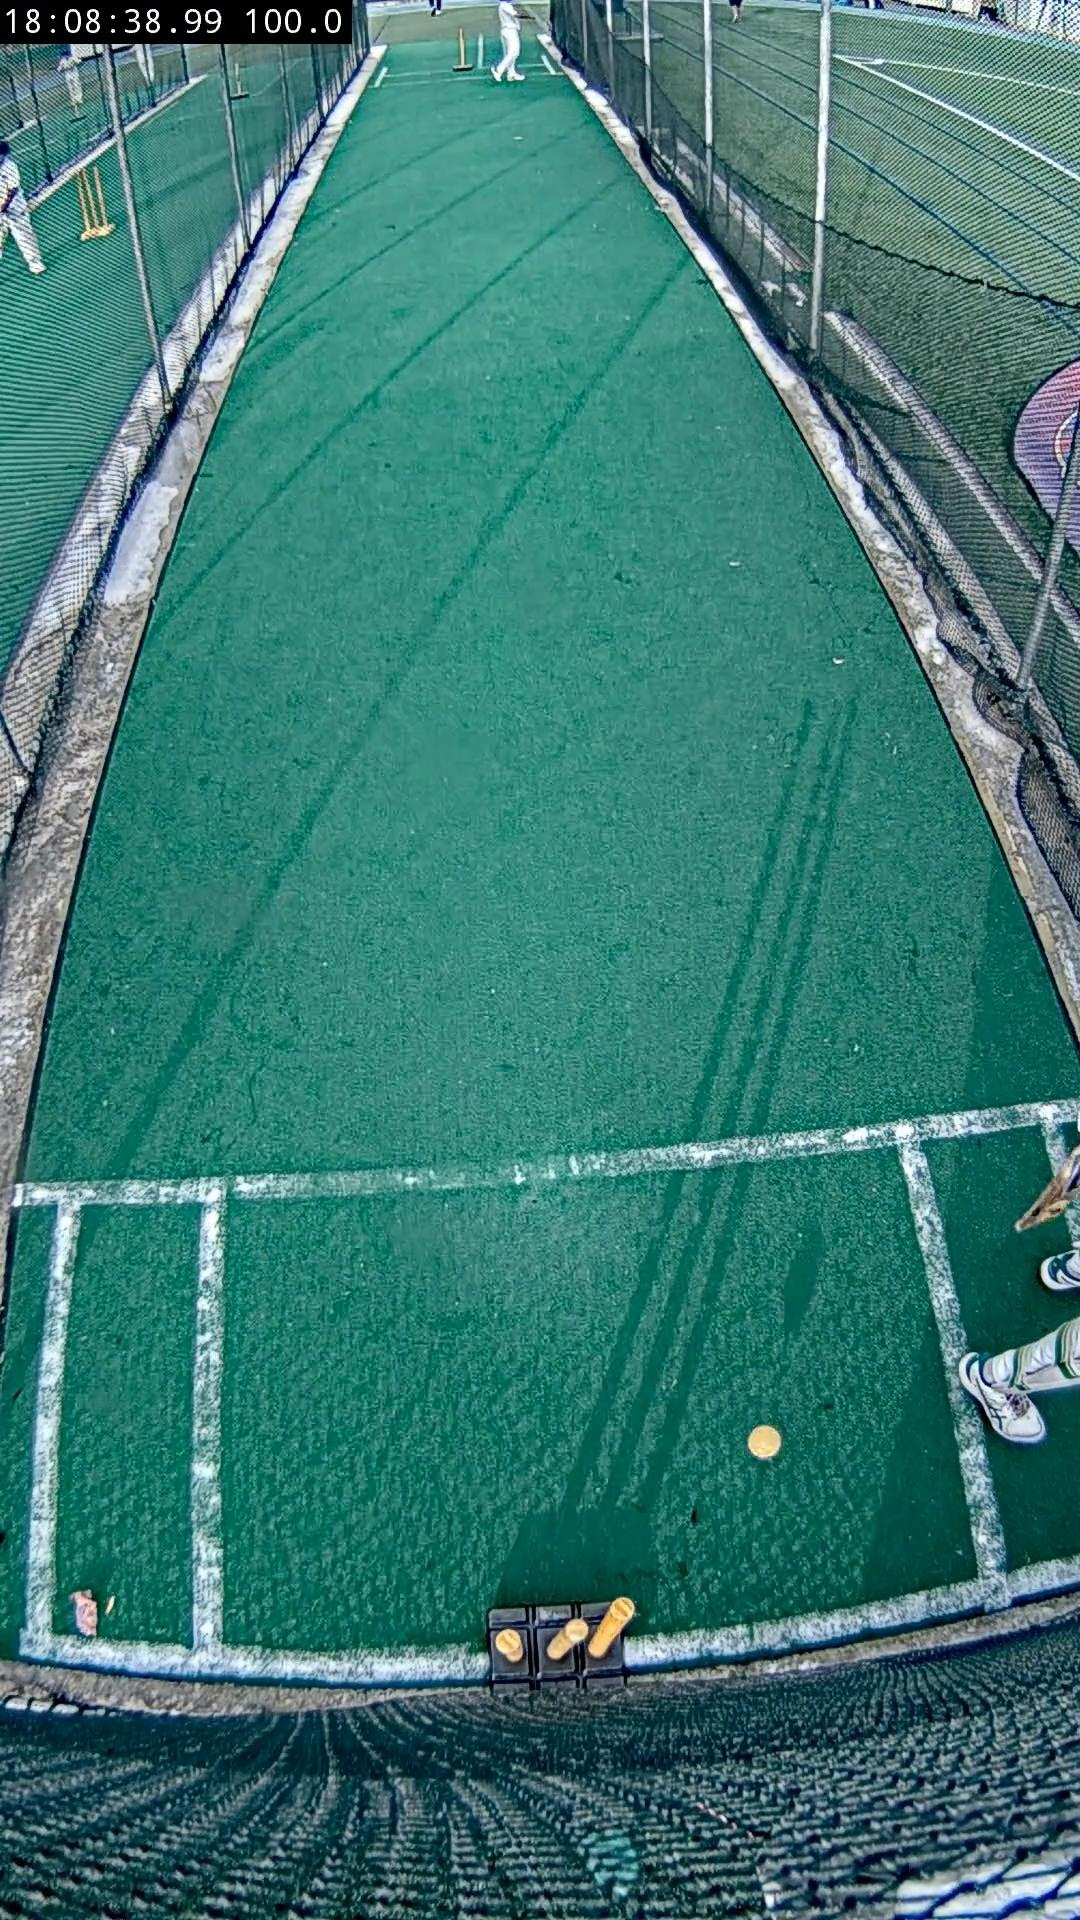ball: (746, 1425, 783, 1458)
bat: (1017, 1143, 1080, 1234)
stumps: (488, 1597, 634, 1692)
